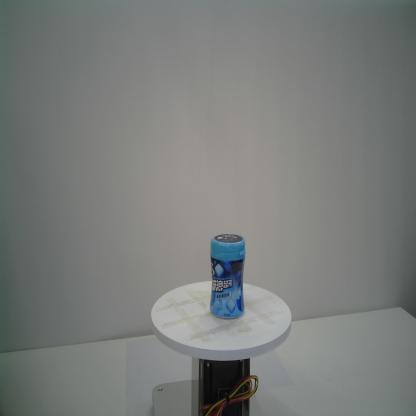Gum: (209, 232, 247, 320)
